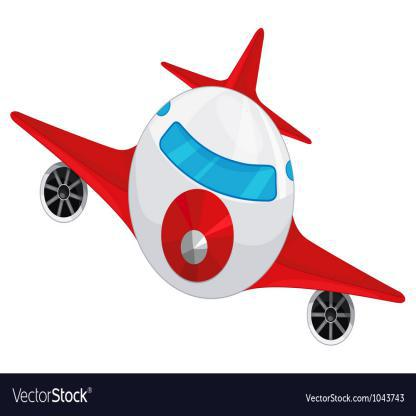CIV_Plane: (7, 26, 408, 350)
